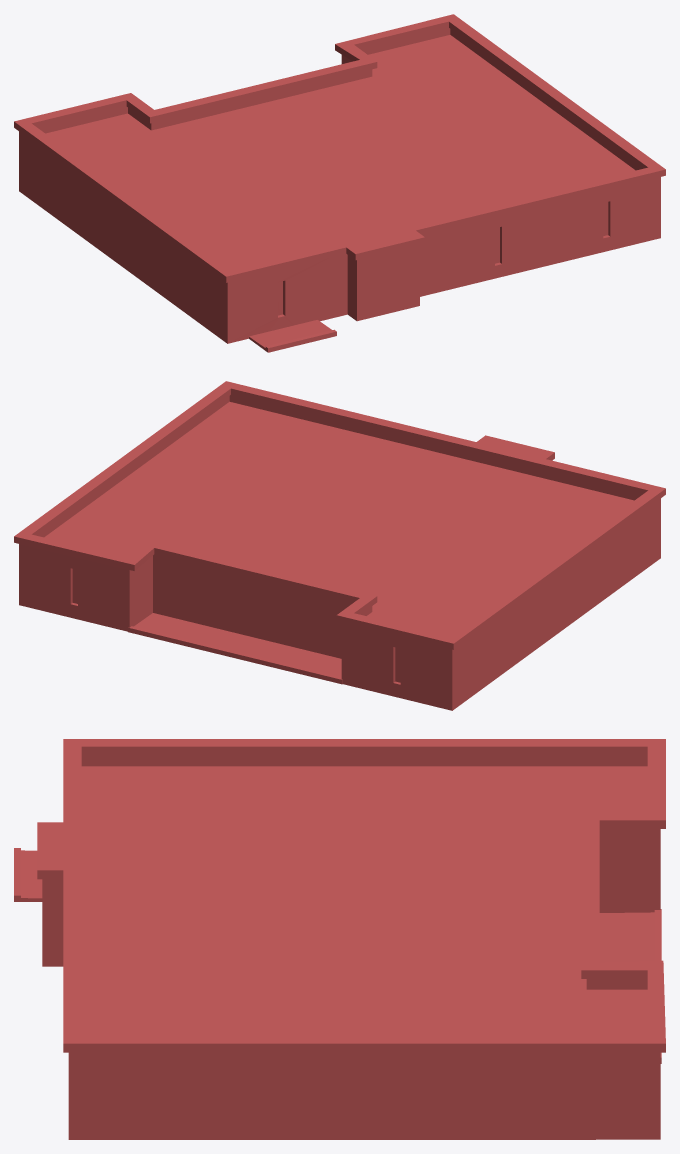
The model's file is SM_house_section_4.fbx.
The picture shows the model from 3 angles, top to bottom: view 1: azimuth 30°, elevation 25°; view 2: azimuth 150°, elevation 25°; view 3: azimuth 270°, elevation 25°; orthographic projection. The views are drawn at different scales.
Visible parts, largest first — view 1: Cube_9; view 2: Cube_9; view 3: Cube_9.
Part boxes in pixels (bbox=[...]): Cube_9: bbox=[14, 14, 665, 352]; Cube_9: bbox=[14, 381, 665, 710]; Cube_9: bbox=[14, 739, 665, 1139].
Size of the model in its own units: 1826 by 275 by 1652.
